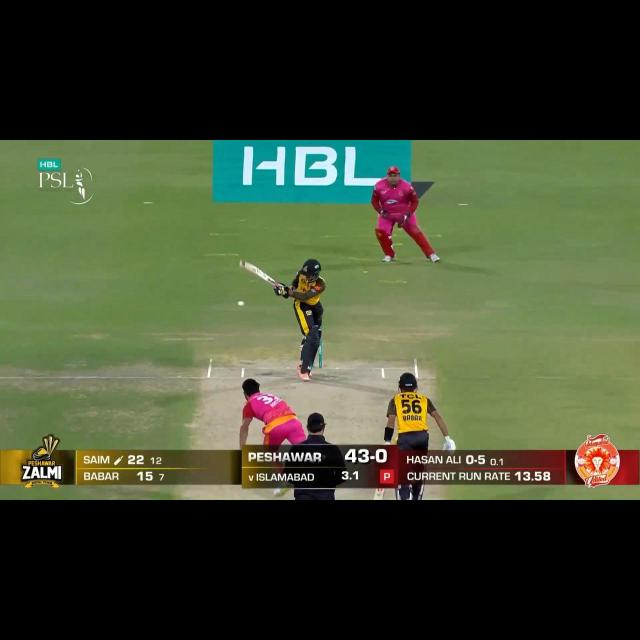bat: (237, 259, 281, 287), (372, 488, 385, 501)
toe: (237, 258, 251, 268)
